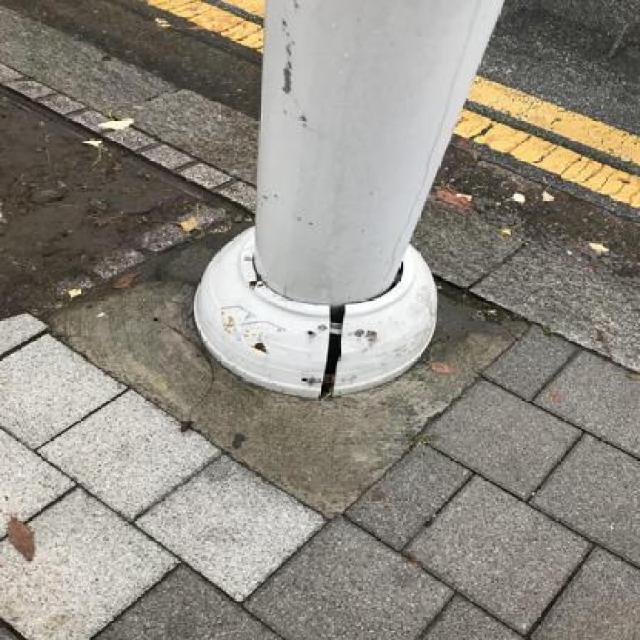pole: (182, 0, 508, 408)
